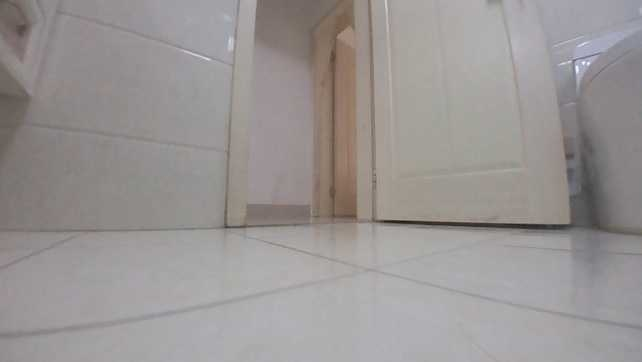door_anno: (367, 0, 574, 227)
door_sill: (245, 218, 366, 230)
toilet: (576, 27, 641, 237)
